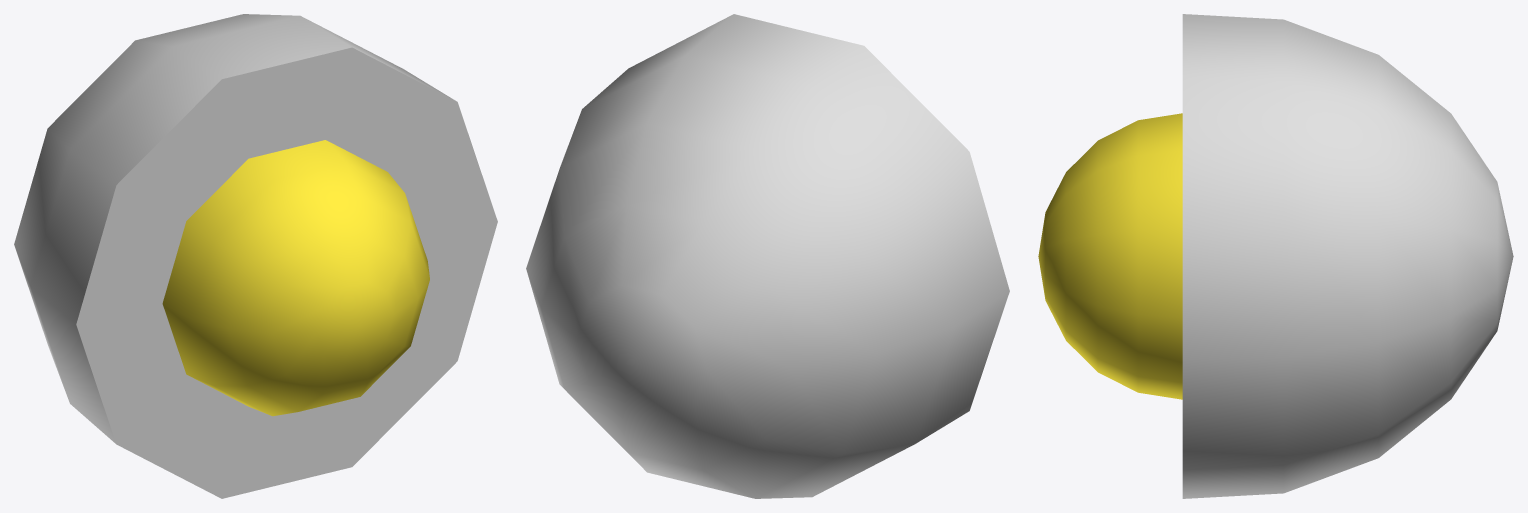
The model's file is Egg_02.gltf.
The picture shows the model from 3 angles, left to right: view 1: azimuth 30°, elevation 25°; view 2: azimuth 150°, elevation 25°; view 3: azimuth 270°, elevation 25°; orthographic projection.
Visible parts, largest first — view 1: node-0; view 2: node-0; view 3: node-0.
Part boxes in pixels (box(x1,y1,x2,y2)): node-0: box(14, 14, 497, 498); node-0: box(526, 14, 1009, 498); node-0: box(1038, 14, 1513, 498).
Size of the model in its own units: 84.06 by 79.95 by 81.75.
